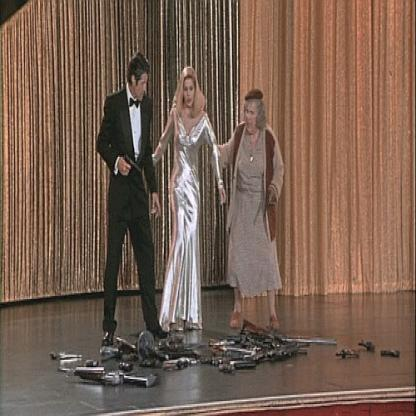Gun: (40, 318, 401, 394)
